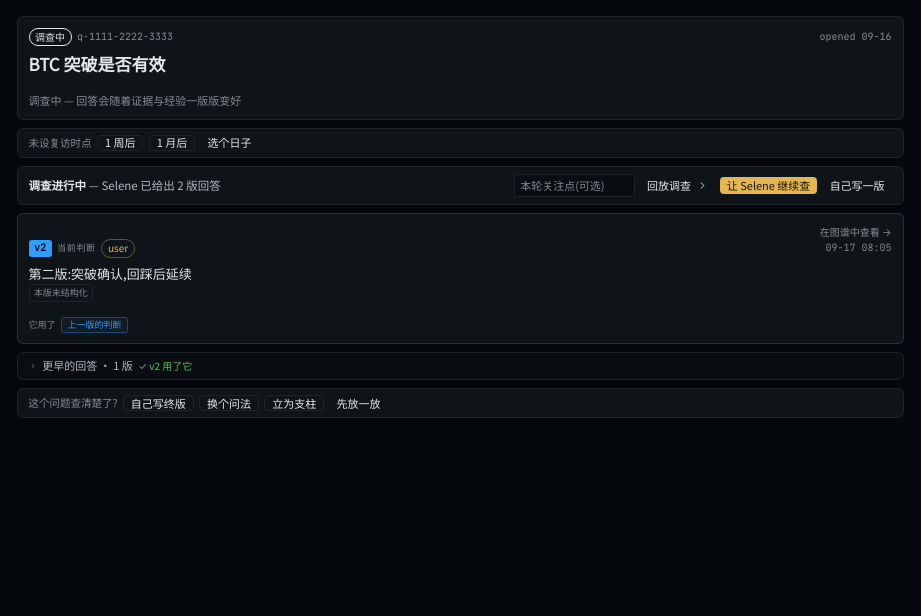
Test: QuestionSurface v5 渐进披露 › 折叠条:点开显示旧版链(逐版卡 + ✓ 被当前版引用),再点收起
Expected: the heading "BTC 突破是否有效" is shown, top-left (28, 51), bottom-right (166, 76)
Click the button with test id "history-toggle": click(76, 365) top-left (16, 352), bottom-right (904, 380)
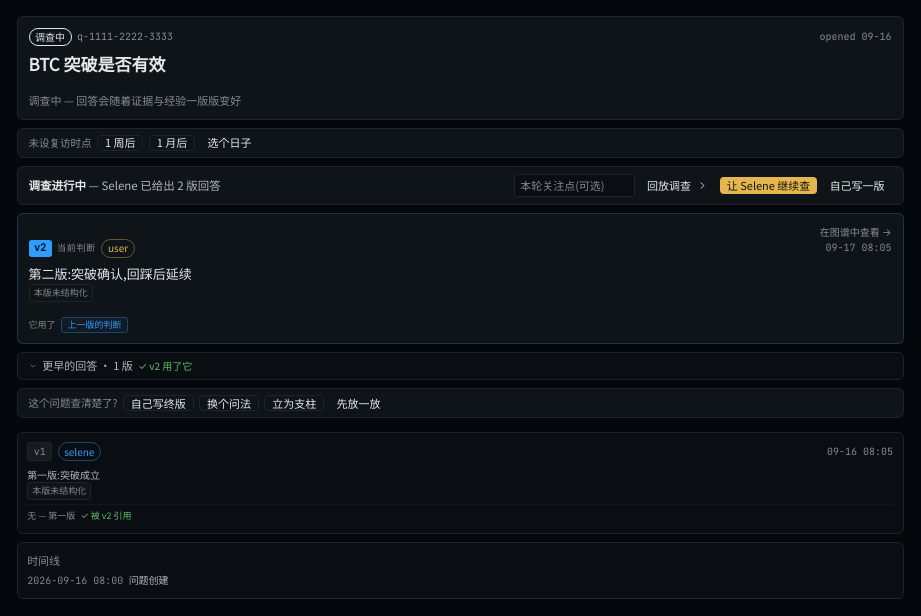
Expected: the text "第一版:突破成立" is shown, top-left (27, 467), bottom-right (100, 482)
Expected: the text "✓ 被 v2 引用" is shown, top-left (81, 510), bottom-right (131, 522)
Expected: the text "时间线" is shown, top-left (27, 552), bottom-right (60, 568)
Click the button with test id "history-toggle": click(76, 365) top-left (16, 352), bottom-right (904, 380)
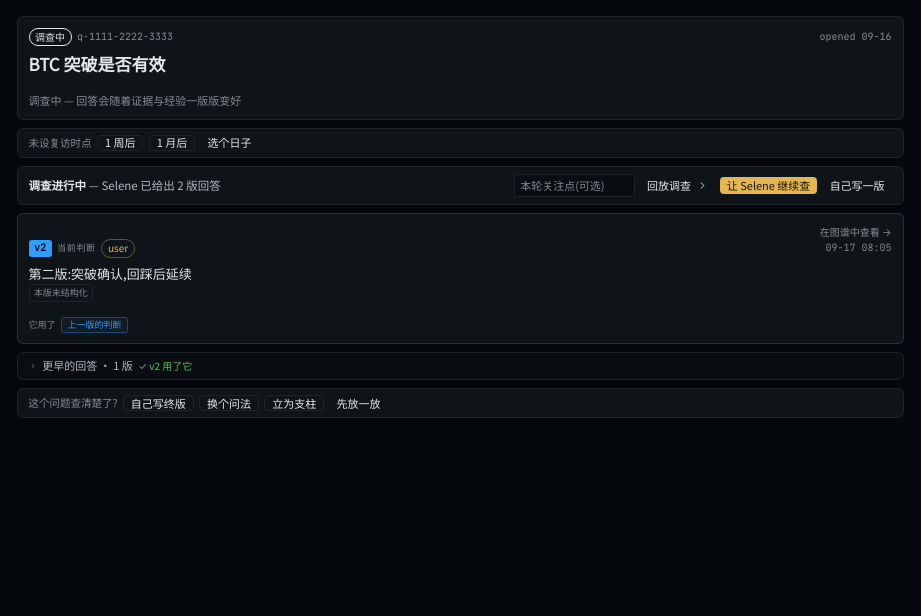
Expected: the element with test id "section-timeline" is gone
